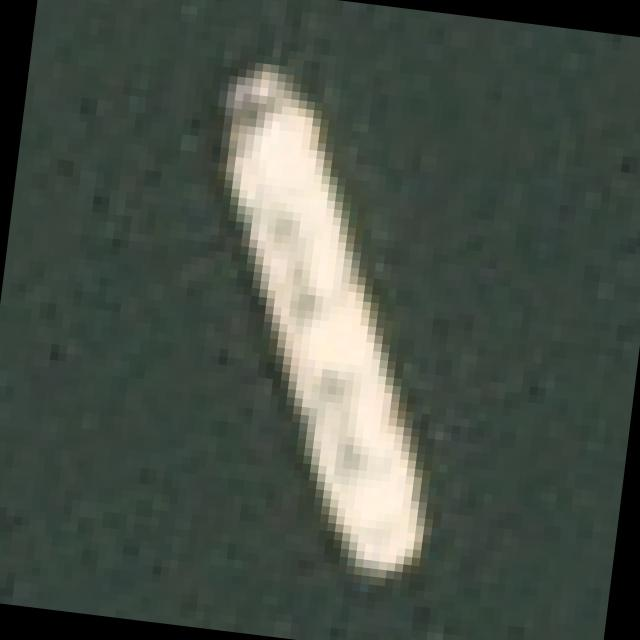ship: (126, 52, 525, 620)
